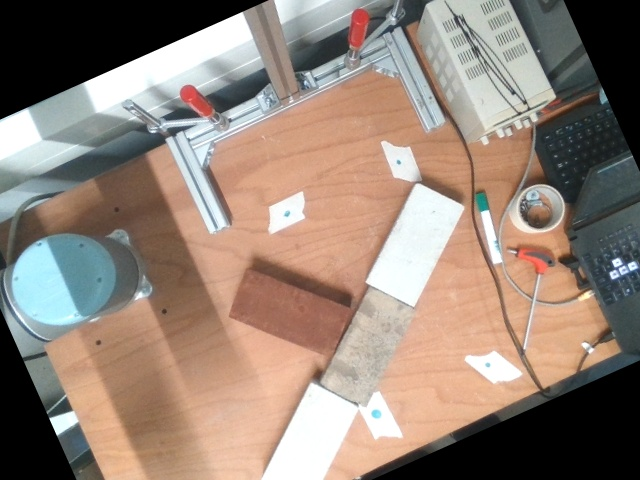brick: (366, 182, 465, 305), (228, 266, 347, 357), (322, 289, 413, 407), (261, 384, 359, 479)
